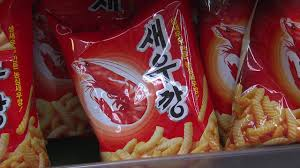snack1: (44, 4, 223, 161)
